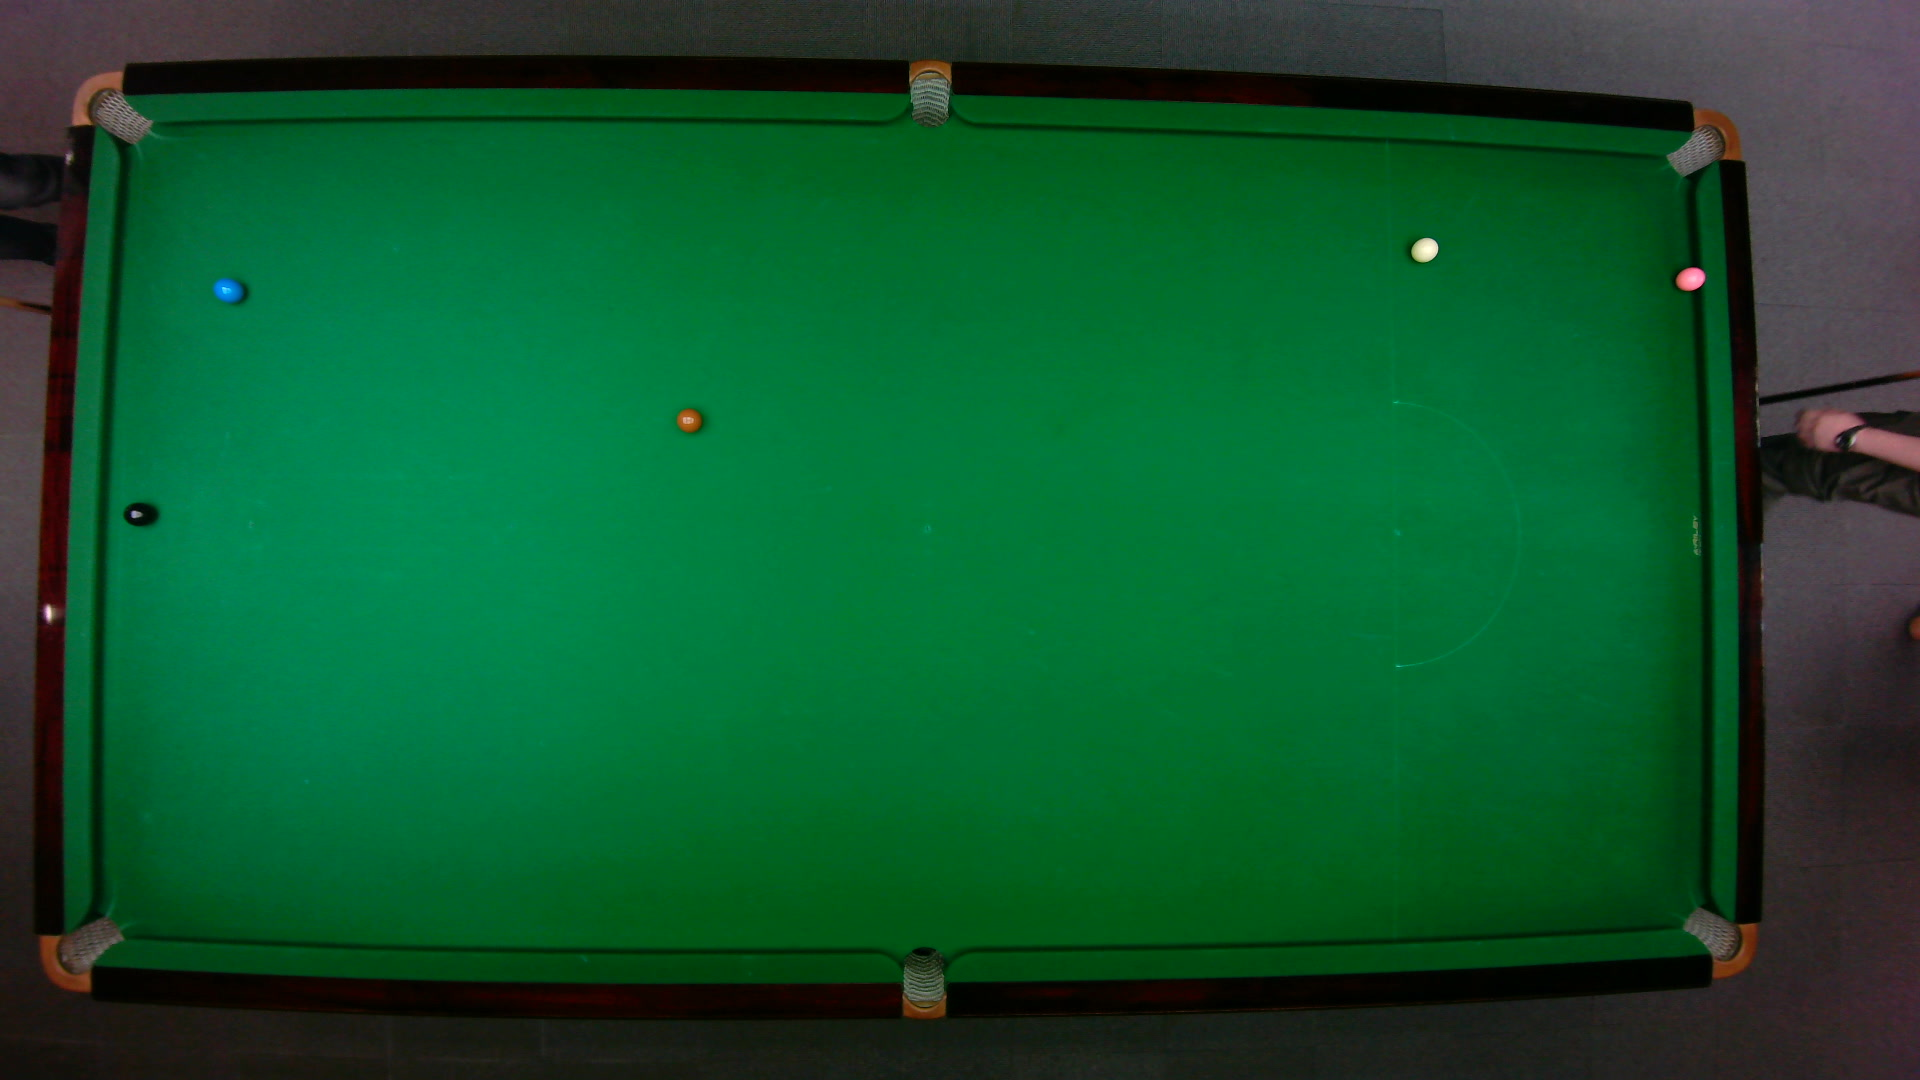bag: (38, 914, 125, 992), (69, 69, 152, 144), (1679, 905, 1756, 978), (1663, 107, 1741, 177), (901, 944, 944, 1021), (909, 57, 949, 128)
black: (121, 500, 154, 526)
blue: (211, 276, 244, 305)
brown: (675, 406, 703, 433)
pink: (1673, 262, 1706, 291)
white: (1408, 235, 1439, 262)
zone: (1390, 398, 1520, 669)
